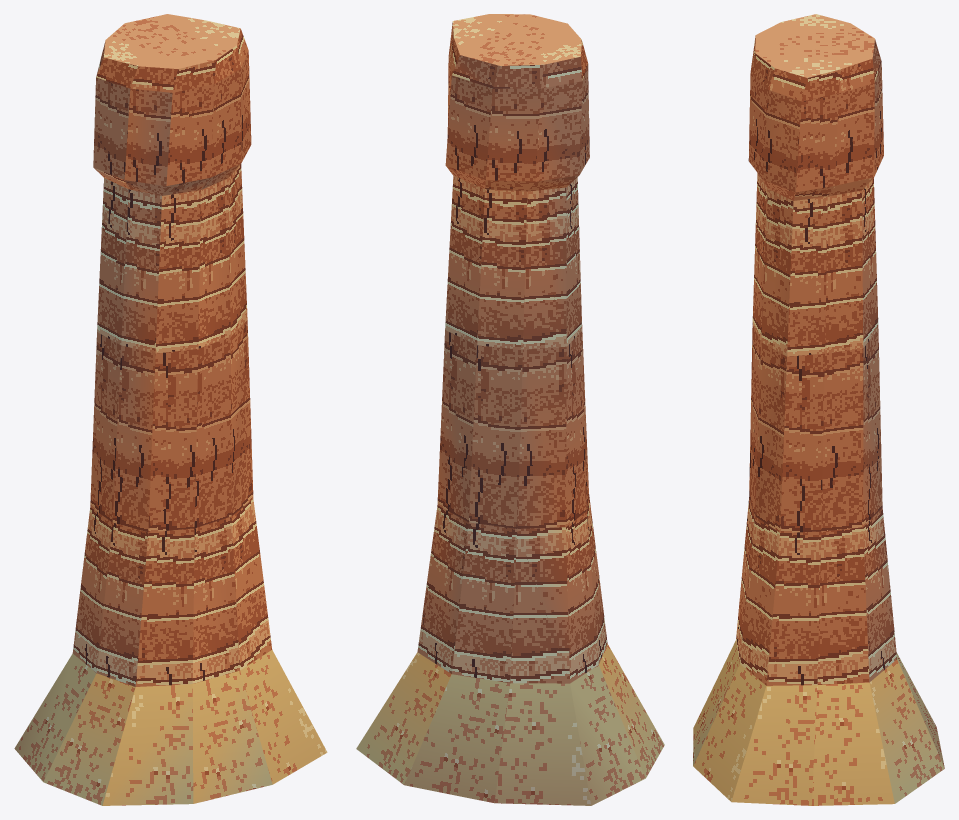
File: wland.butte__slim.glb
The picture shows the model from 3 angles, left to right: view 1: azimuth 30°, elevation 25°; view 2: azimuth 150°, elevation 25°; view 3: azimuth 270°, elevation 25°; orthographic projection.
Visible parts, largest first — view 1: kit_butte; view 2: kit_butte; view 3: kit_butte.
Part boxes in pixels (left/top/right/bottom): kit_butte: left=14, top=14, right=327, bottom=805; kit_butte: left=356, top=14, right=664, bottom=805; kit_butte: left=693, top=14, right=944, bottom=805.
Size of the model in its own units: 6.69 by 18 by 5.86.
4 materials, 4 textured.
